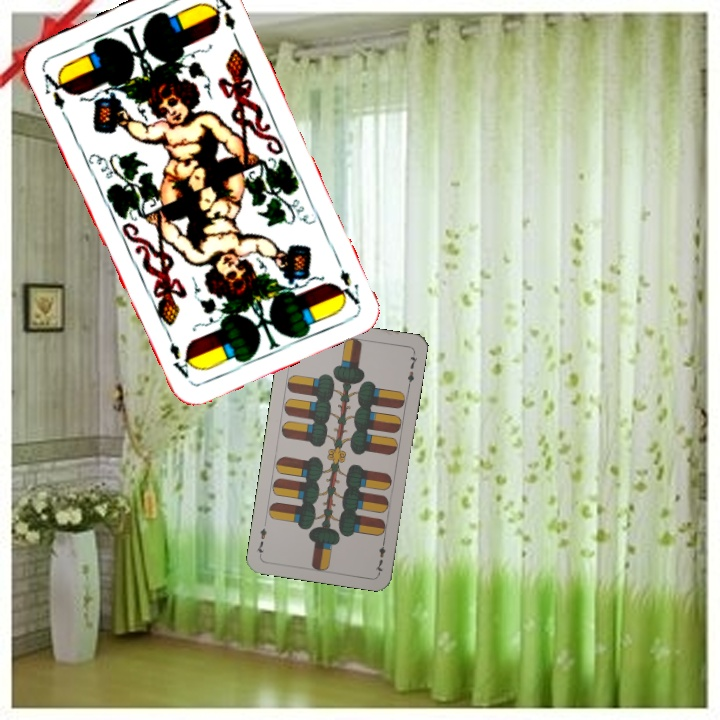E7: (371, 535, 388, 575)
EA: (330, 251, 363, 308), (40, 67, 71, 113)
